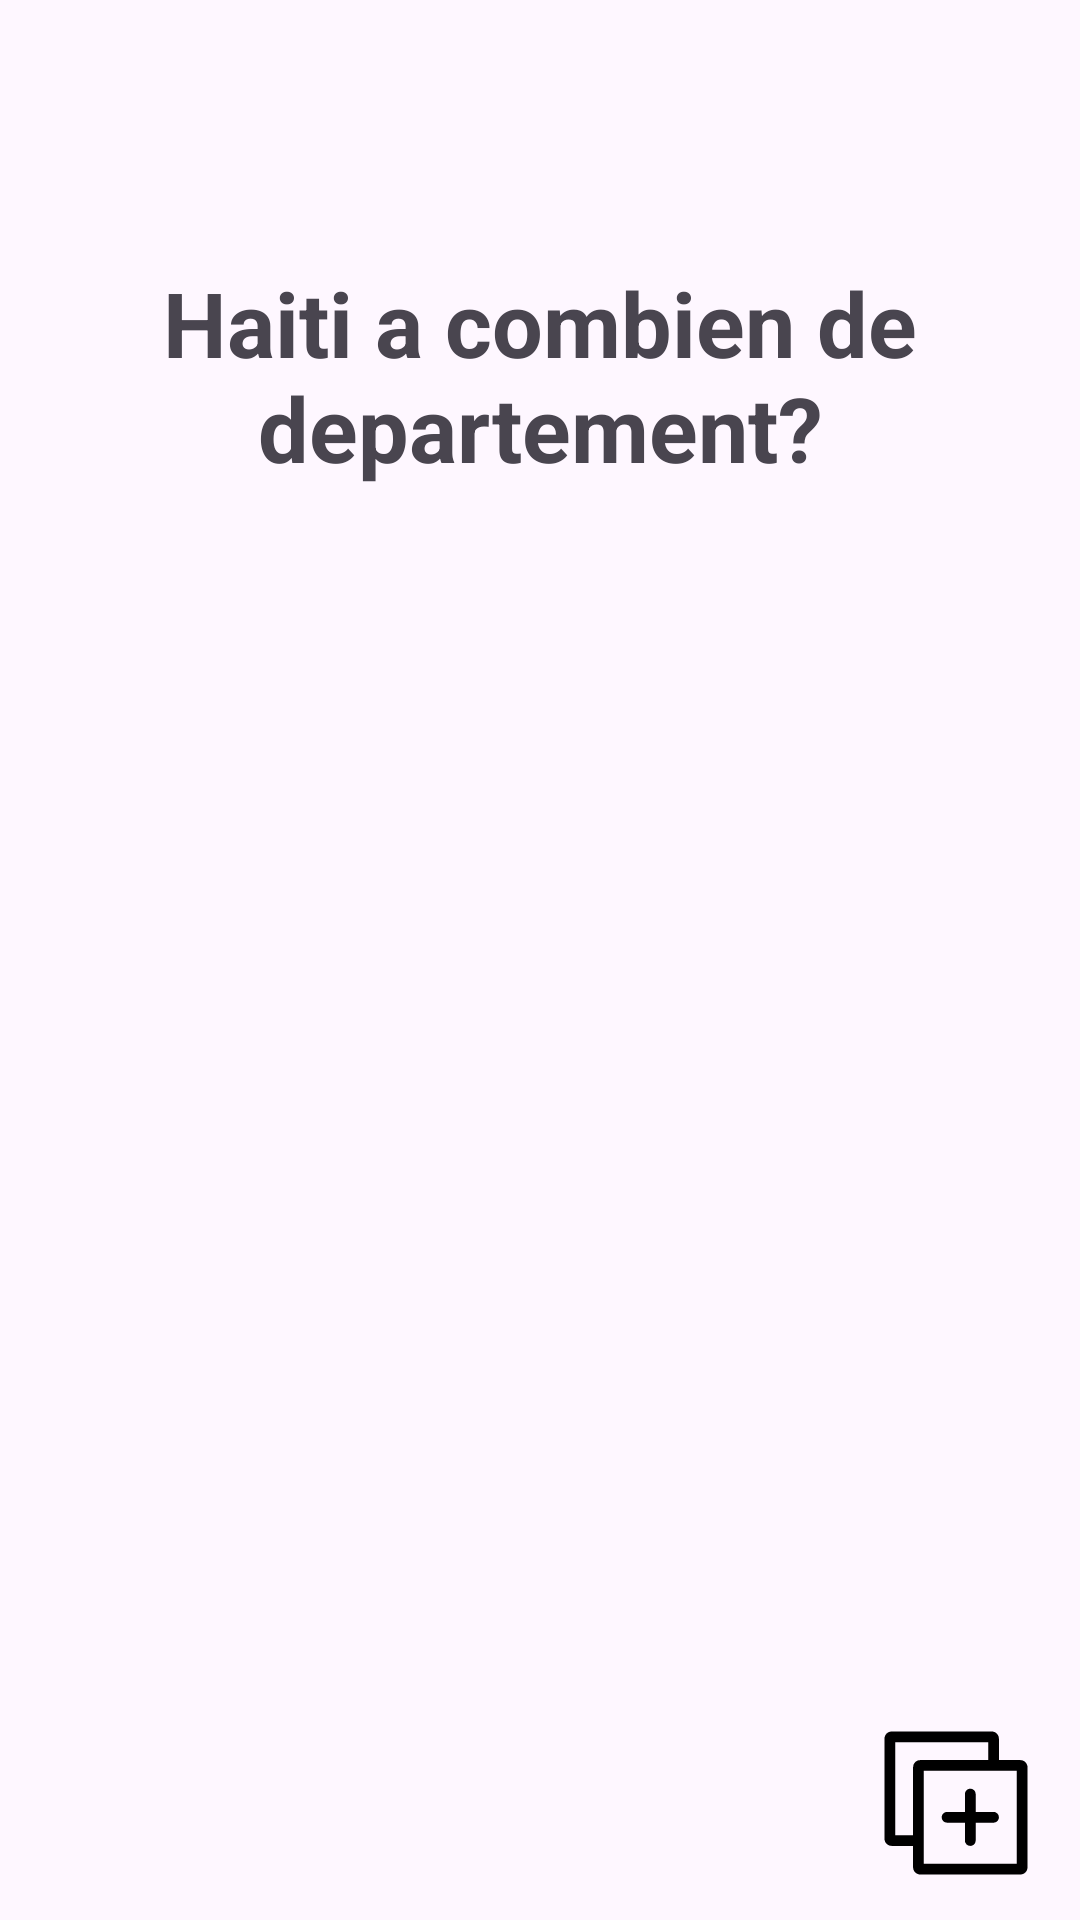

Screen size 1080*1920. Icon name, then its box in pixels as (left=x1, top=y1, right=x2, bottom=y2):
add: (left=884, top=1731, right=1028, bottom=1875)
